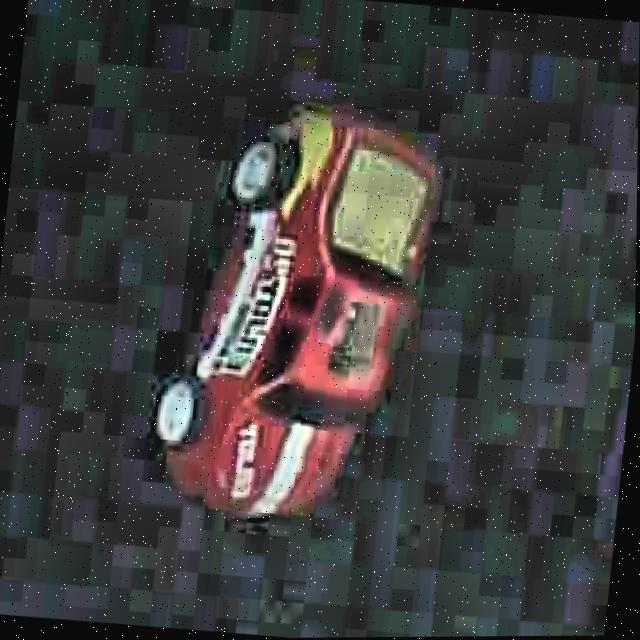car: (130, 88, 458, 541)
